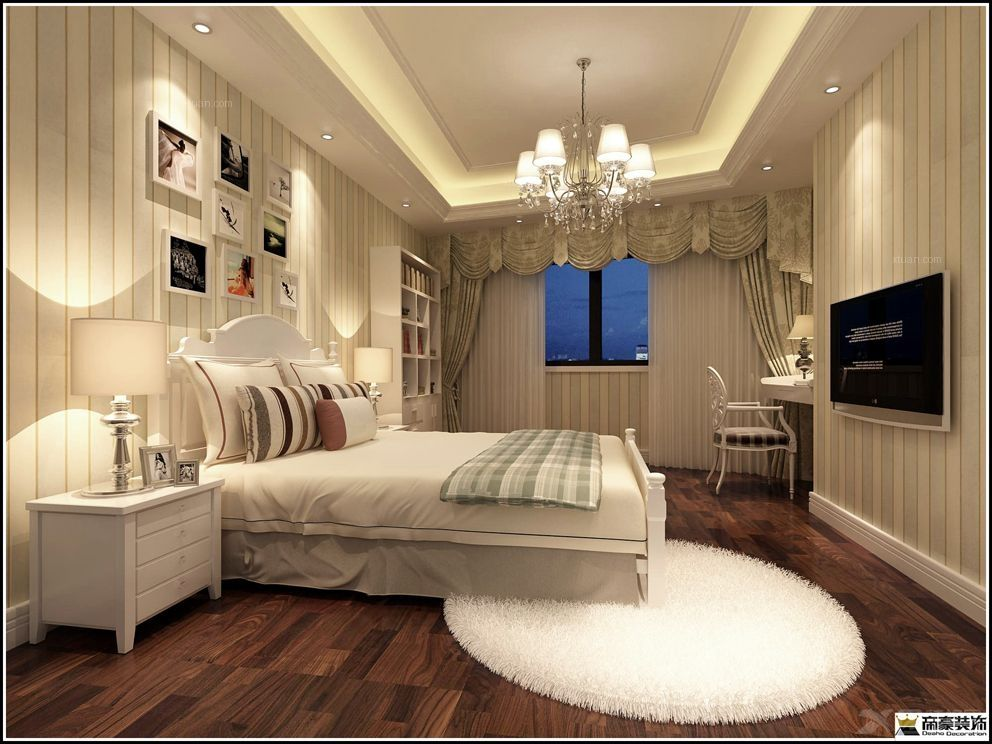床: (198, 424, 668, 617)
枕头: (189, 346, 384, 459)
灯: (510, 63, 669, 269), (78, 313, 169, 496), (353, 343, 398, 416), (787, 306, 822, 381), (187, 20, 215, 38), (826, 80, 853, 97), (759, 160, 780, 179), (318, 130, 340, 145), (398, 200, 417, 213)
